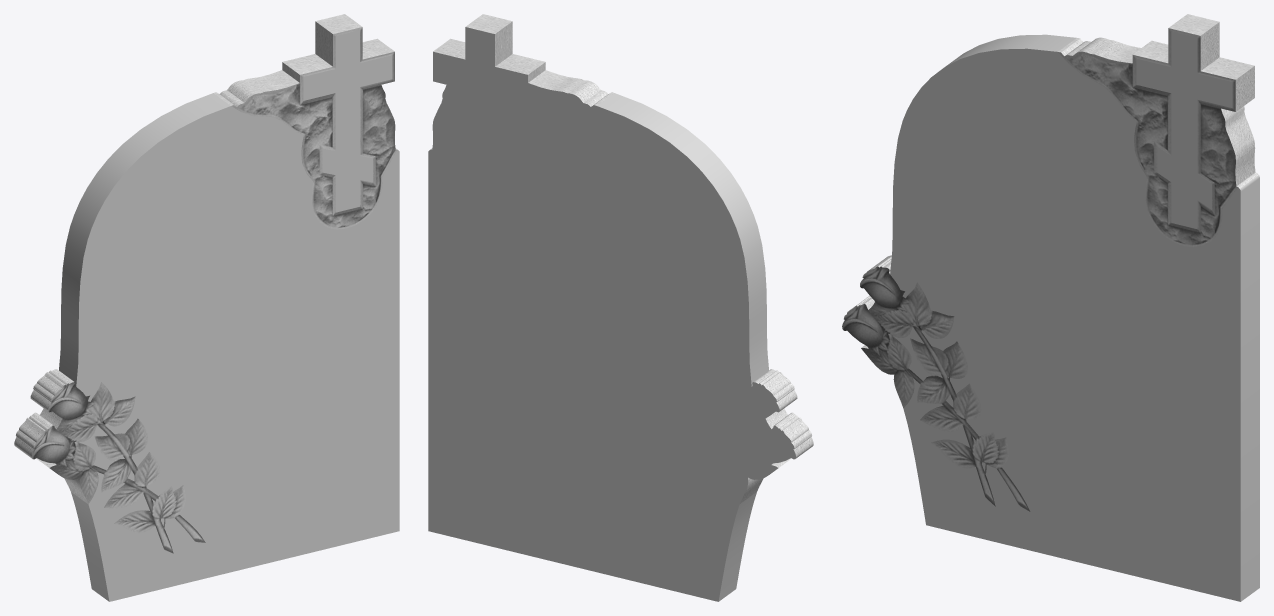
Rendered from cnd837241ccb_tkf.glb.
3 renders of one model, left to right at view 1: azimuth 30°, elevation 25°; view 2: azimuth 150°, elevation 25°; view 3: azimuth 330°, elevation 25°, orthographic. The views are drawn at different scales.
Parts seen in each view (by area): view 1: Pam-d02-108, Pam-d02-108_2_notexture; view 2: Pam-d02-108, Pam-d02-108_2_notexture; view 3: Pam-d02-108, Pam-d02-108_2_notexture.
Part boxes in pixels (box(x1,y1,x2,y2)): Pam-d02-108: box(59, 30, 399, 601); Pam-d02-108_2_notexture: box(14, 14, 398, 553); Pam-d02-108: box(428, 27, 795, 601); Pam-d02-108_2_notexture: box(431, 14, 813, 503); Pam-d02-108: box(890, 32, 1259, 601); Pam-d02-108_2_notexture: box(842, 14, 1258, 511).
Bounding box in the file's own units: 0.6 × 0.8 × 0.05.
Materials: 1 (1 with a texture image).
